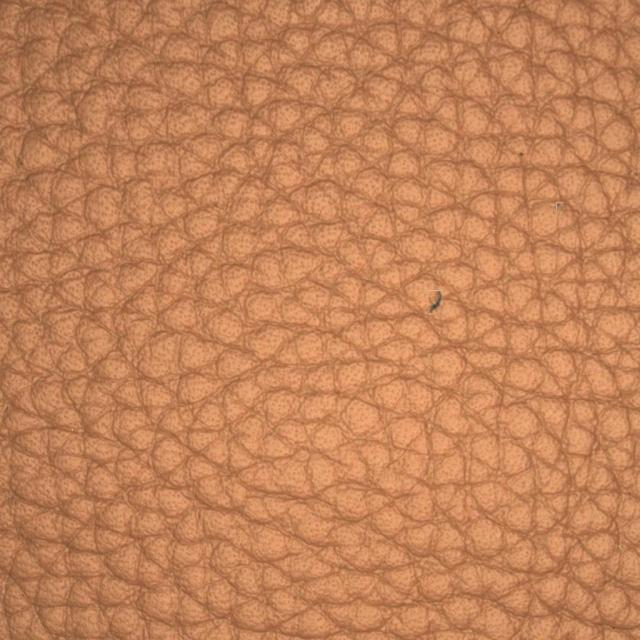Scratch: (346, 248, 537, 354)
